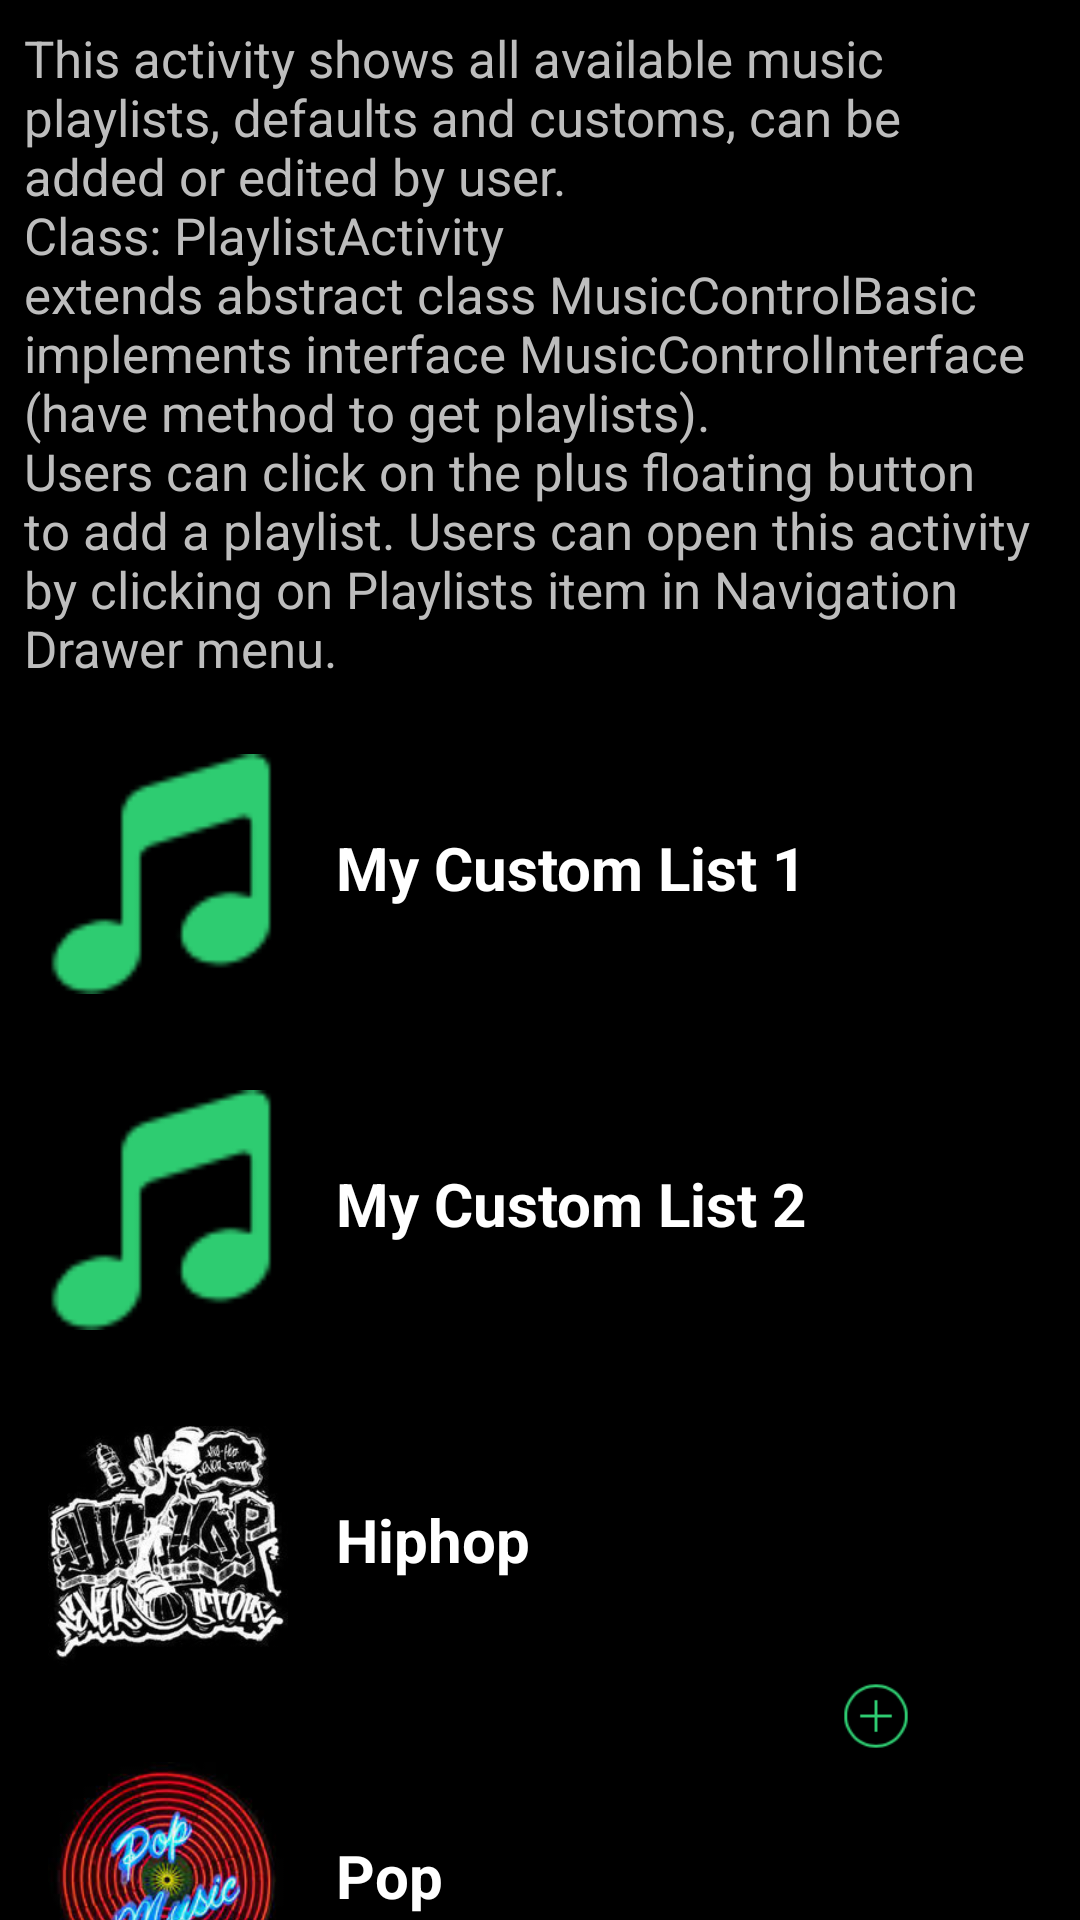

Locate icon controls on the screen. Image size 1080 x 1920, boxes as [left=x1, top=y1, right=x2, bottom=y2].
plus: [left=844, top=1684, right=908, bottom=1748]
